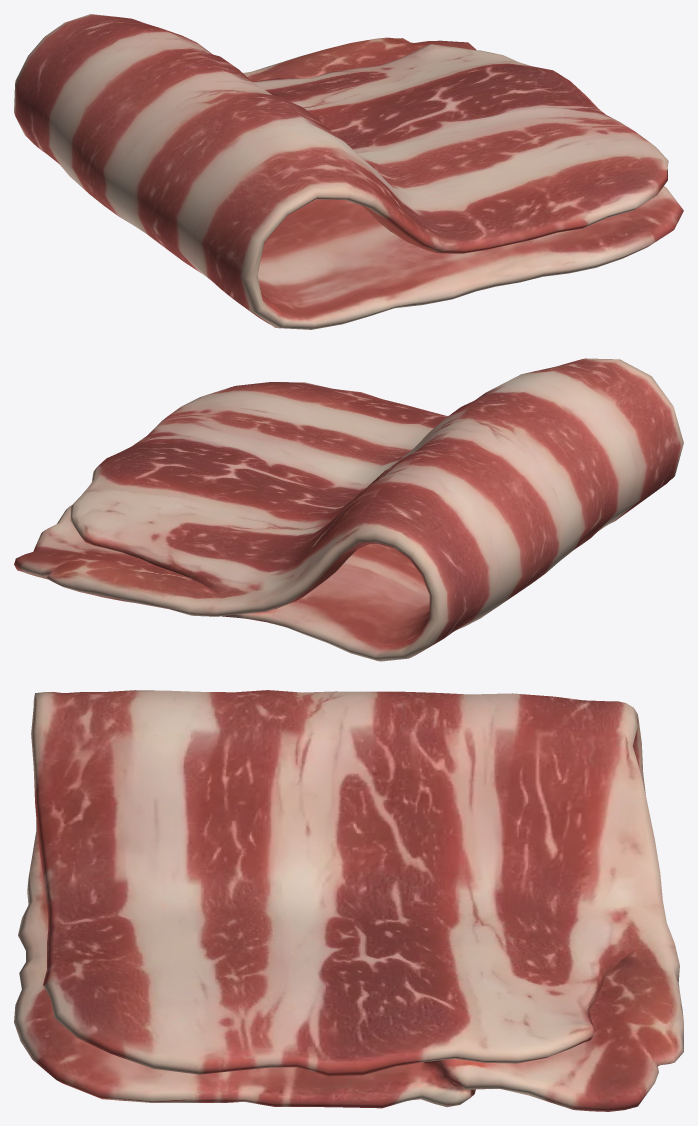
3 views of the same model, one above another, from view 1: azimuth 30°, elevation 25°; view 2: azimuth 150°, elevation 25°; view 3: azimuth 270°, elevation 25° (orthographic). The views are drawn at different scales.
Parts seen in each view (by area): view 1: Fatty Beef Slice; view 2: Fatty Beef Slice; view 3: Fatty Beef Slice.
Boxes of the visible parts, x1=… form: Fatty Beef Slice: x1=14, y1=14, x2=683, y2=329; Fatty Beef Slice: x1=14, y1=358, x2=683, y2=661; Fatty Beef Slice: x1=14, y1=690, x2=683, y2=1111.
Size of the model in its own units: 0.998 by 0.3262 by 0.9941.
Materials: 1 (1 with a texture image).
